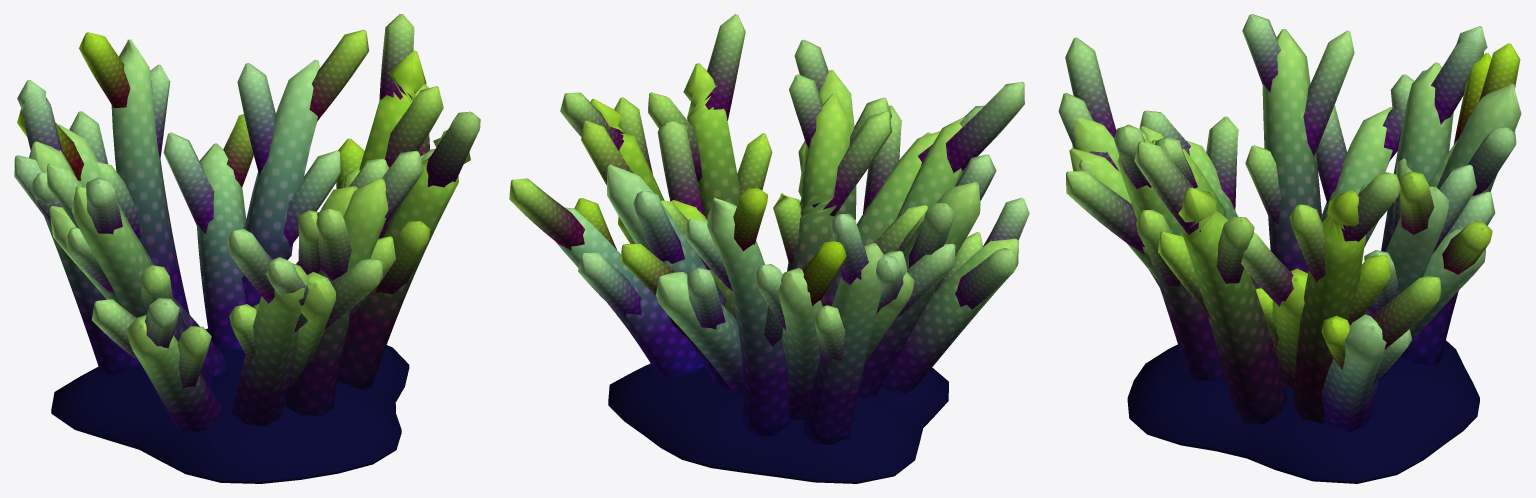
File: reef-sinularia-finger-leather.glb
3 renders of one model, left to right at view 1: azimuth 30°, elevation 25°; view 2: azimuth 150°, elevation 25°; view 3: azimuth 270°, elevation 25°, orthographic. The views are drawn at different scales.
Parts seen in each view (by area): view 1: Reef_Sinularia_Finger_Leather; view 2: Reef_Sinularia_Finger_Leather; view 3: Reef_Sinularia_Finger_Leather.
Boxes of the visible parts, bbox=[...] form: Reef_Sinularia_Finger_Leather: bbox=[14, 14, 480, 483]; Reef_Sinularia_Finger_Leather: bbox=[509, 14, 1029, 483]; Reef_Sinularia_Finger_Leather: bbox=[1058, 14, 1521, 483].
Size of the model in its own units: 0.295 by 0.21 by 0.268.
2 materials, 2 textured.
